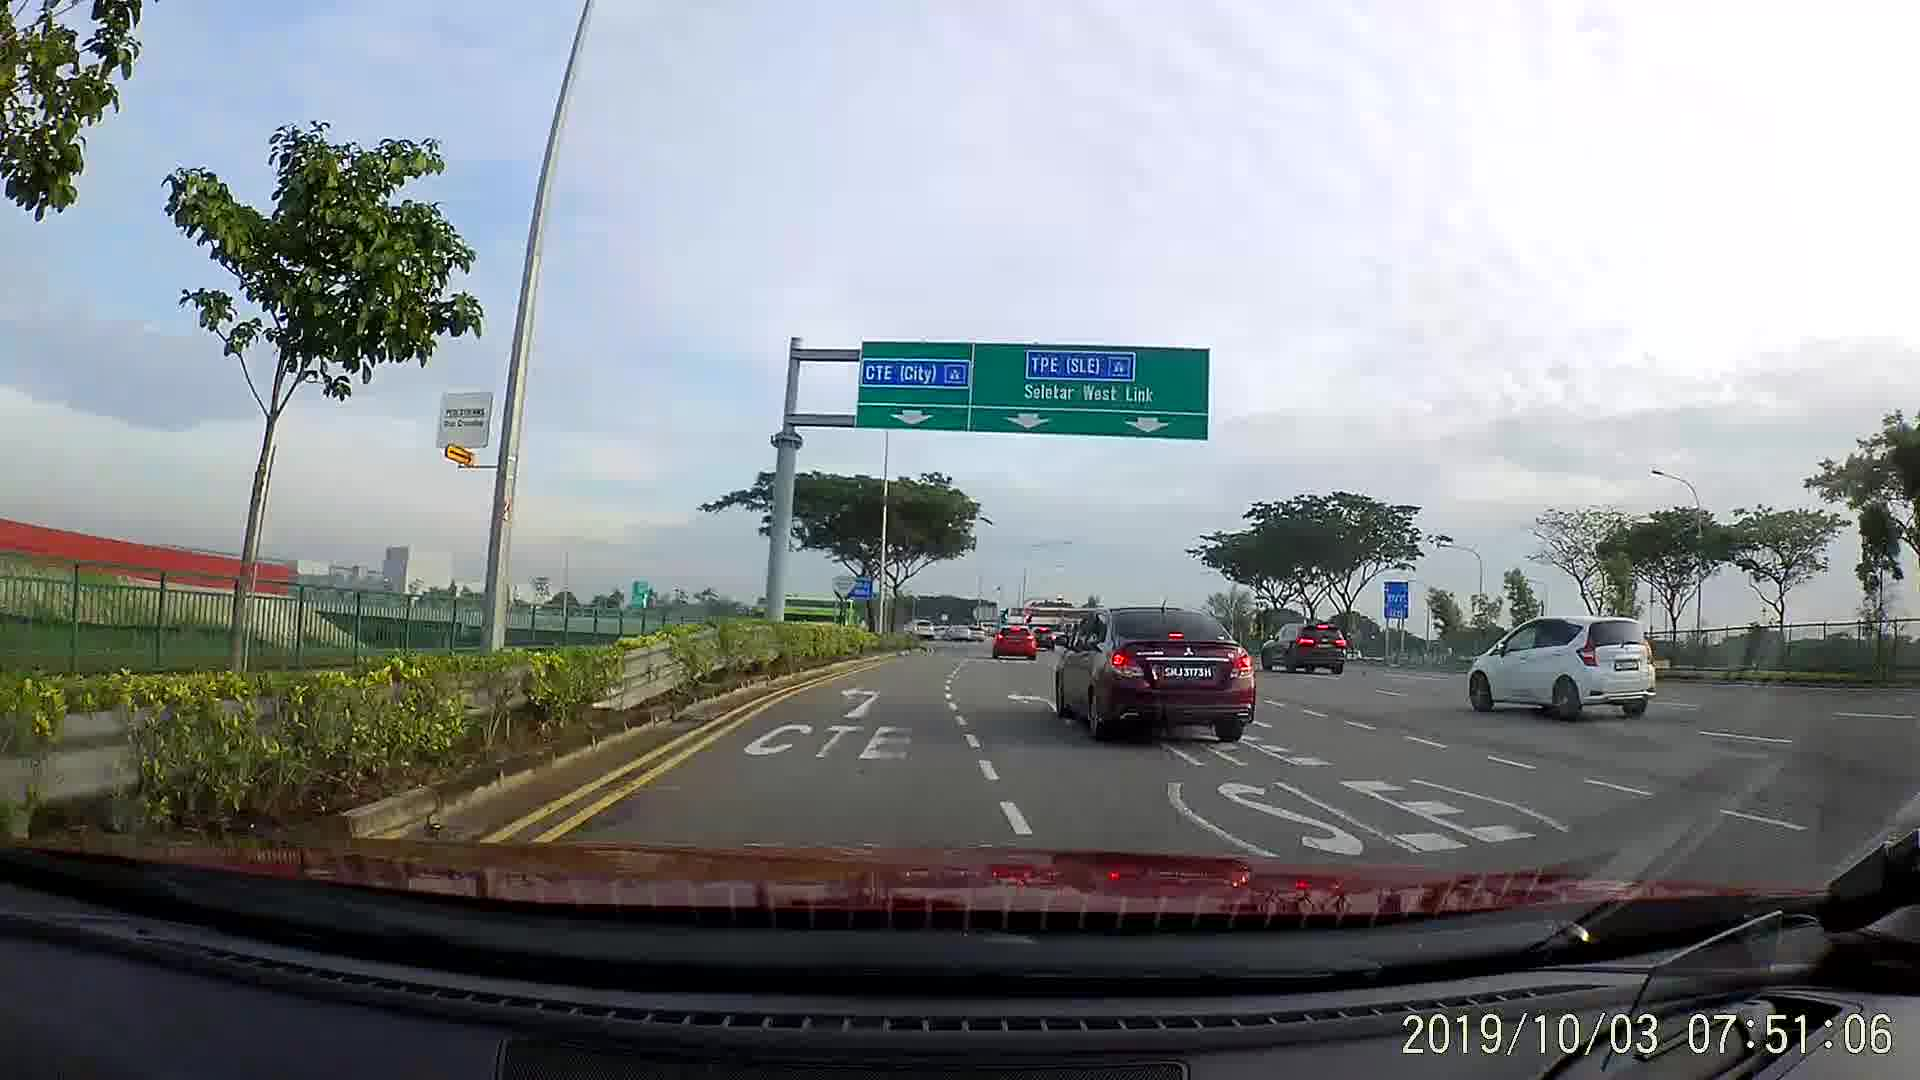car: (1055, 611, 1255, 752), (1465, 611, 1658, 723), (1261, 620, 1352, 674), (992, 621, 1038, 661), (898, 613, 936, 644), (942, 621, 986, 645)
